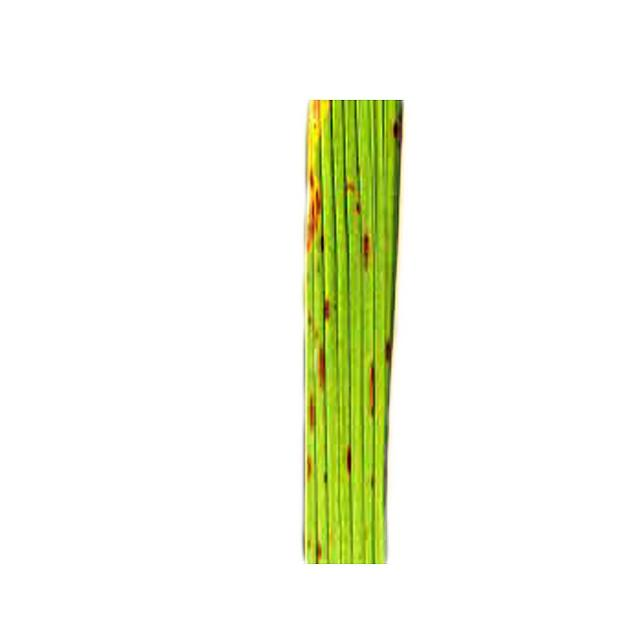Narrow brown: (273, 73, 462, 595)
